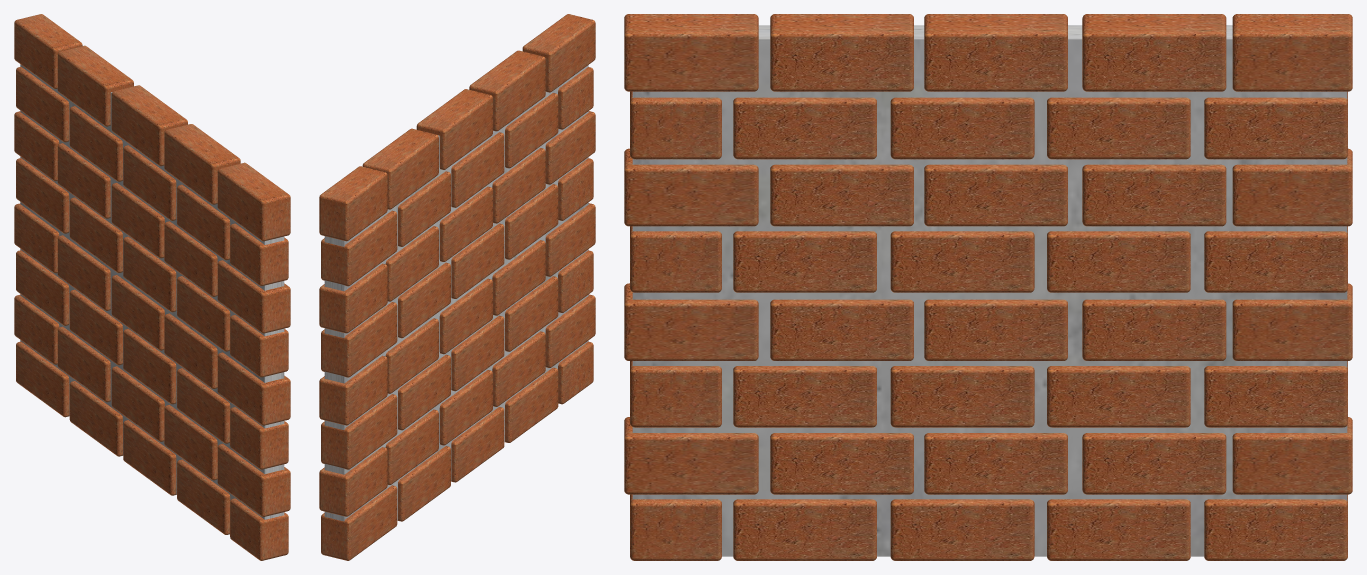
The model's file is brick_wall.glb.
3 views of the same model, side by side, from view 1: azimuth 30°, elevation 25°; view 2: azimuth 150°, elevation 25°; view 3: azimuth 270°, elevation 25° (orthographic). The views are drawn at different scales.
Visible parts, largest first — view 1: Object_40, Object_41, Object_32, Object_29, Object_31, Object_30, Object_21, Object_38, Object_10, Object_28, Object_34, Object_5 (+28 smaller); view 2: Object_41, Object_40, Object_28, Object_30, Object_31, Object_29, Object_32, Object_15, Object_26, Object_4, Object_6, Object_17 (+28 smaller); view 3: Object_40, Object_41, Object_29, Object_30, Object_31, Object_32, Object_28, Object_22, Object_18, Object_26, Object_19, Object_24 (+28 smaller).
Boxes of the visible parts, bbox=[...] form: Object_40: bbox=[20, 64, 284, 519]; Object_41: bbox=[14, 295, 69, 417]; Object_32: bbox=[217, 162, 290, 241]; Object_29: bbox=[57, 45, 133, 126]; Object_31: bbox=[164, 124, 240, 204]; Object_30: bbox=[111, 85, 187, 166]; Object_21: bbox=[217, 260, 290, 333]; Object_38: bbox=[217, 443, 290, 516]; Object_10: bbox=[217, 352, 290, 425]; Object_28: bbox=[14, 14, 82, 88]; Object_34: bbox=[230, 498, 288, 560]; Object_5: bbox=[230, 407, 288, 469]; Object_41: bbox=[319, 447, 397, 560]; Object_40: bbox=[324, 65, 588, 521]; Object_28: bbox=[319, 166, 387, 241]; Object_30: bbox=[416, 89, 492, 169]; Object_31: bbox=[469, 50, 545, 131]; Object_29: bbox=[362, 128, 438, 209]; Object_32: bbox=[522, 14, 595, 92]; Object_15: bbox=[321, 302, 397, 377]; Object_26: bbox=[321, 210, 397, 286]; Object_4: bbox=[321, 394, 397, 469]; Object_6: bbox=[319, 355, 387, 425]; Object_17: bbox=[319, 263, 387, 333]; Object_40: bbox=[632, 25, 1347, 556]; Object_41: bbox=[1204, 417, 1352, 560]; Object_29: bbox=[1082, 14, 1226, 91]; Object_30: bbox=[924, 14, 1067, 91]; Object_31: bbox=[770, 14, 913, 91]; Object_32: bbox=[624, 14, 758, 91]; Object_28: bbox=[1232, 14, 1352, 91]; Object_22: bbox=[890, 97, 1034, 159]; Object_18: bbox=[1082, 164, 1226, 226]; Object_26: bbox=[1204, 91, 1347, 159]; Object_19: bbox=[924, 164, 1067, 226]; Object_24: bbox=[733, 97, 876, 159].
Bounding box in the file's own units: 21 × 248 × 309.
Materials: 40 (40 with a texture image).
